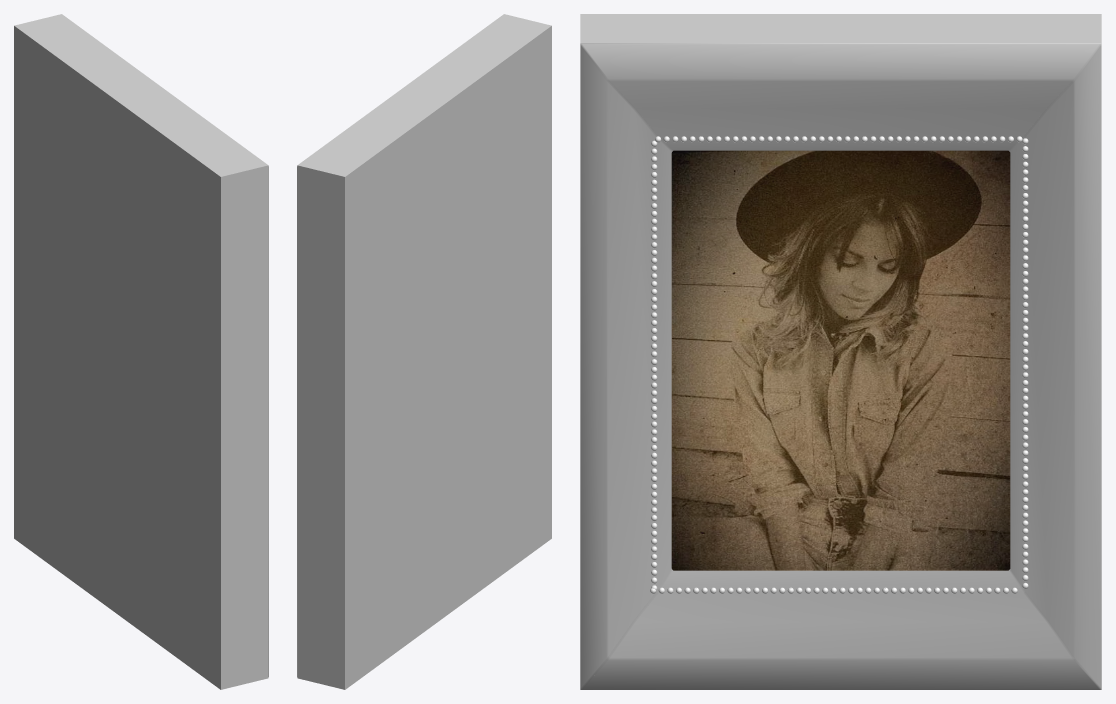
The model's file is white_photo_frame-transformed.glb.
3 views of the same model, side by side, from view 1: azimuth 30°, elevation 25°; view 2: azimuth 150°, elevation 25°; view 3: azimuth 270°, elevation 25° (orthographic). The views are drawn at different scales.
Parts seen in each view (by area): view 1: mockofun-vintage-photo-editor_2; view 2: mockofun-vintage-photo-editor_2; view 3: mockofun-vintage-photo-editor_2, Sphere.001_3.
Part boxes in pixels (bbox=[...]): mockofun-vintage-photo-editor_2: bbox=[14, 14, 268, 689]; mockofun-vintage-photo-editor_2: bbox=[297, 14, 551, 689]; mockofun-vintage-photo-editor_2: bbox=[580, 14, 1101, 689]; Sphere.001_3: bbox=[650, 136, 1028, 593].
Size of the model in its own units: 0.1649 by 1.54 by 1.13.
4 materials, 1 textured.
